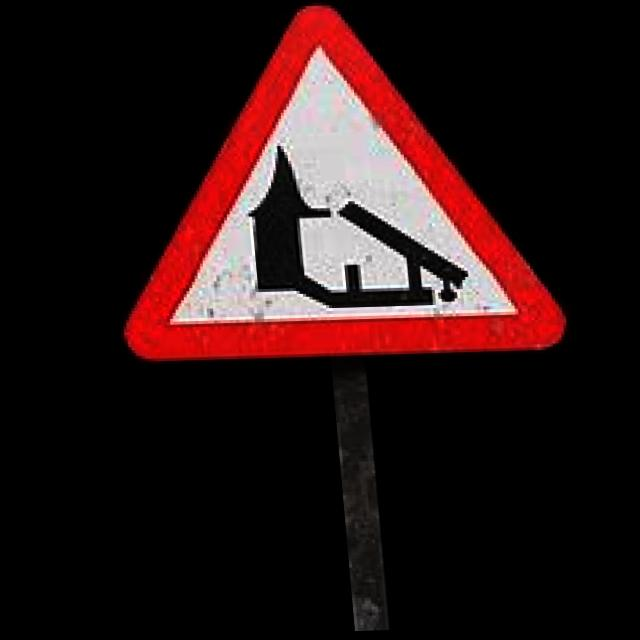BARRIER_AHEAD: (106, 0, 551, 389)
